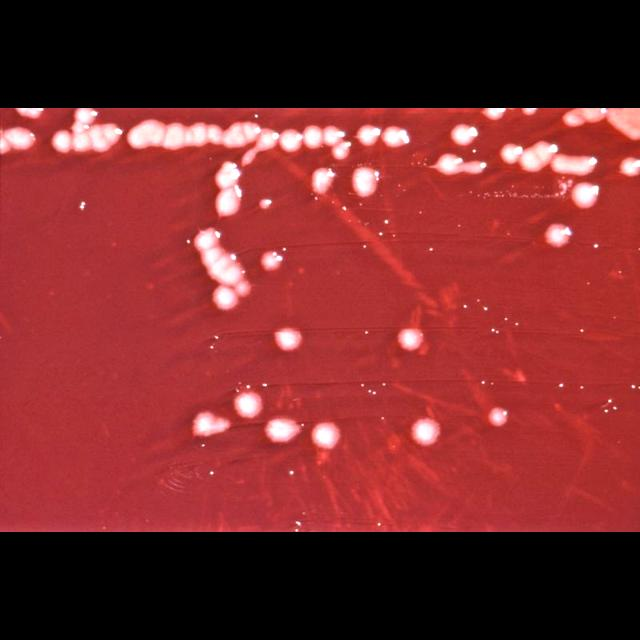colony: (215, 162, 241, 217), (128, 119, 166, 149), (608, 108, 640, 140), (551, 154, 596, 176), (192, 412, 230, 438), (222, 122, 260, 148), (89, 124, 121, 152), (266, 419, 301, 443), (352, 167, 379, 198), (562, 108, 606, 127), (411, 419, 440, 447), (215, 187, 241, 217), (312, 423, 340, 449), (234, 393, 262, 419), (571, 183, 599, 209), (201, 247, 232, 270), (4, 128, 35, 150), (432, 154, 462, 176), (545, 224, 572, 248), (212, 286, 239, 310), (162, 123, 185, 150), (195, 228, 220, 252), (398, 329, 424, 352), (276, 329, 302, 352), (451, 124, 478, 146), (255, 128, 279, 152), (219, 262, 242, 287), (312, 168, 334, 194), (382, 127, 409, 147), (279, 129, 302, 152), (356, 126, 381, 147), (519, 148, 542, 170), (534, 142, 558, 163), (500, 143, 522, 164), (189, 124, 208, 147), (72, 129, 91, 152), (51, 130, 70, 153), (261, 252, 282, 272), (324, 126, 344, 147), (304, 126, 322, 149), (75, 108, 98, 126), (620, 158, 640, 177), (489, 408, 508, 427), (332, 142, 351, 160), (462, 160, 486, 174), (16, 108, 44, 119), (482, 108, 506, 120), (235, 280, 251, 297), (209, 124, 222, 144), (259, 199, 272, 209), (522, 108, 538, 116)
